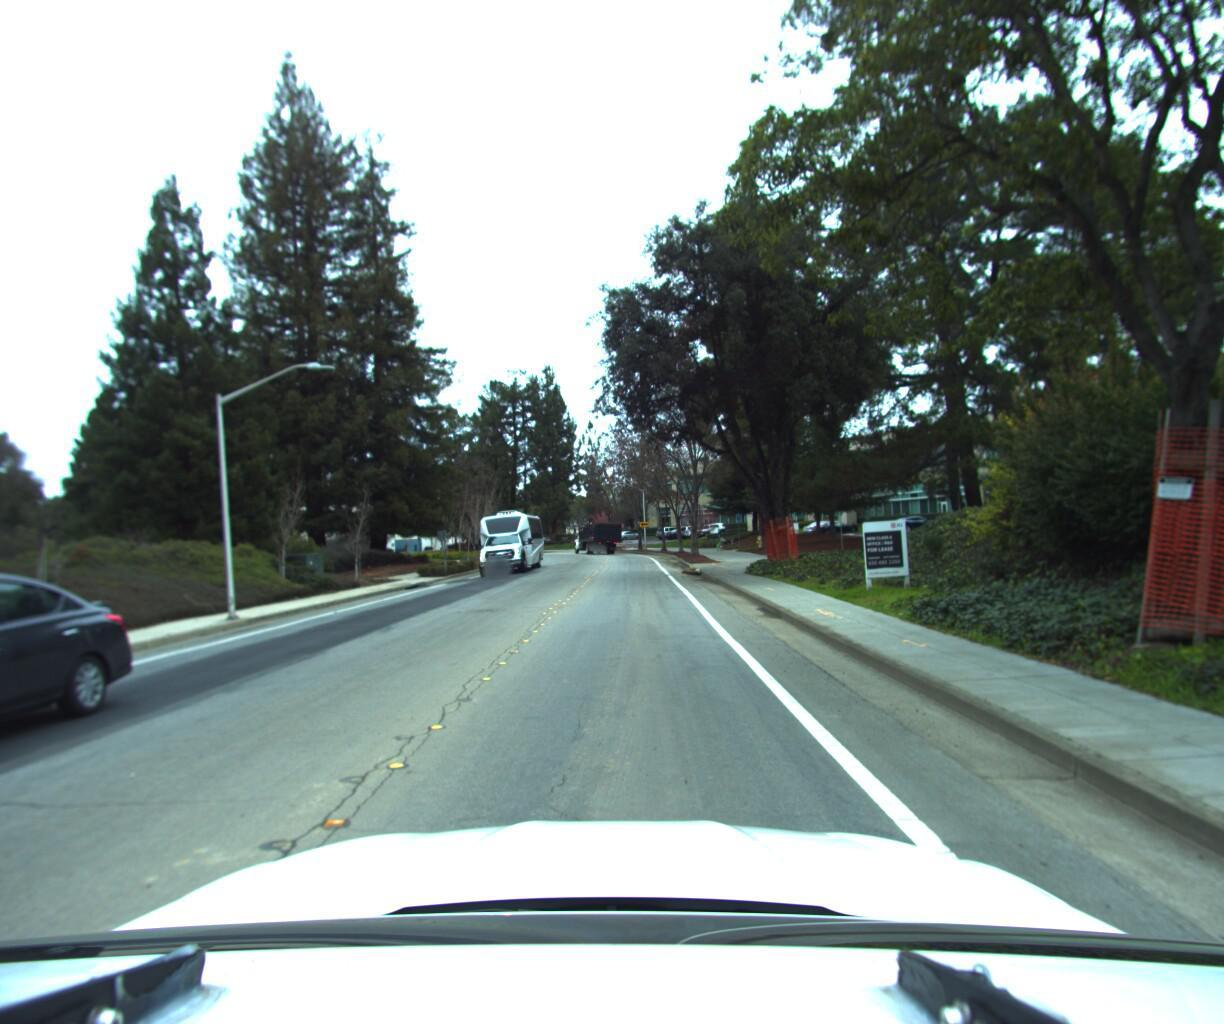bus: (467, 502, 550, 578)
car: (0, 554, 157, 886)
truck: (572, 511, 625, 552)
